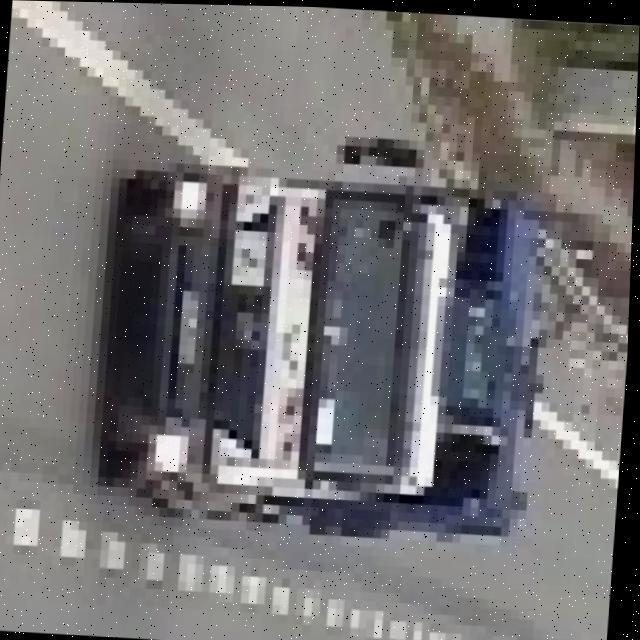truck: (104, 131, 568, 554)
